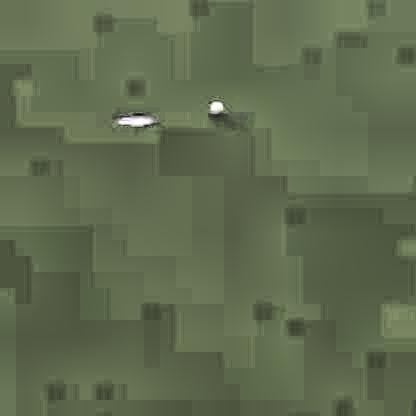golfball: (207, 97, 222, 114)
